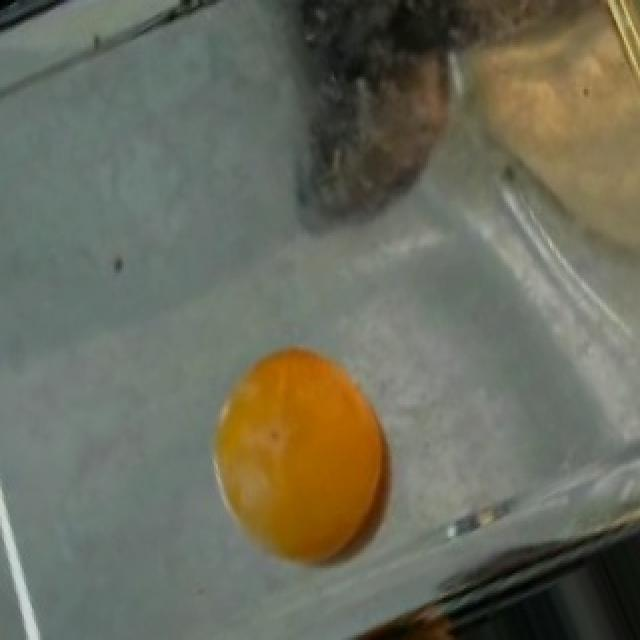Fruit: (198, 337, 412, 588)
